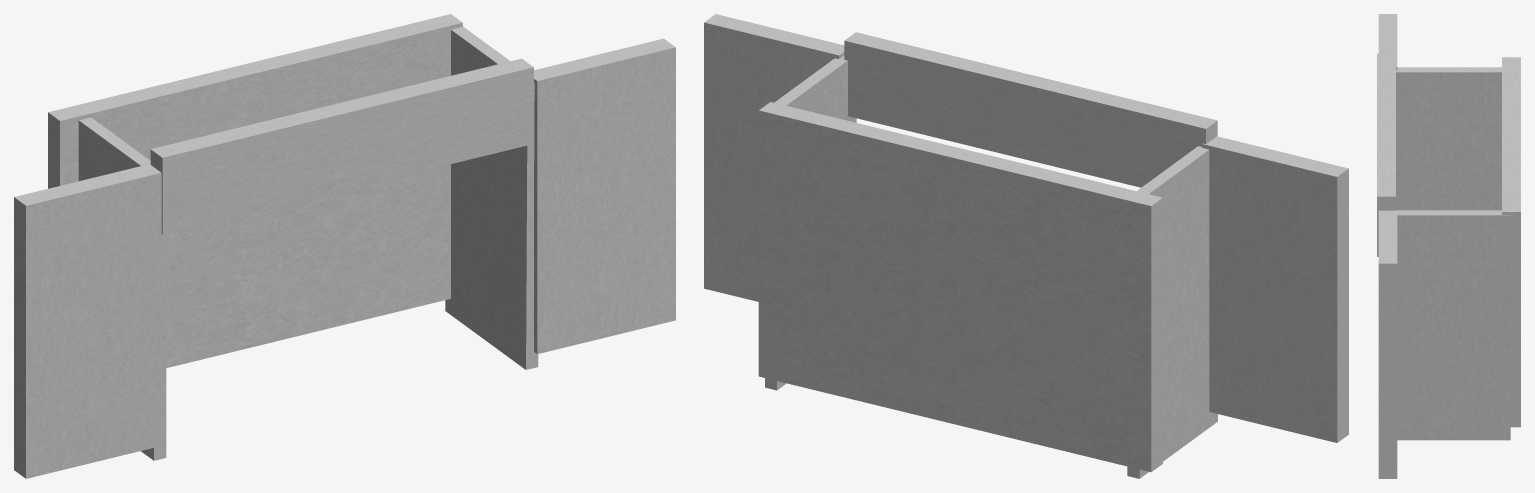
Rendered from doujou_wall_front.obj.
3 views of the same model, side by side, from view 1: azimuth 30°, elevation 25°; view 2: azimuth 150°, elevation 25°; view 3: azimuth 270°, elevation 25° (orthographic). The views are drawn at different scales.
Visible parts, largest first — view 1: 立方体.001; view 2: 立方体.001; view 3: 立方体.001.
Part boxes in pixels (x1=…): 立方体.001: x1=14, y1=14, x2=675, y2=478; 立方体.001: x1=704, y1=14, x2=1348, y2=478; 立方体.001: x1=1377, y1=14, x2=1520, y2=478.
Size of the model in its own units: 518 by 232 by 126.
1 material, 1 textured.
